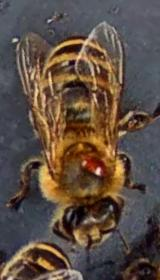varroa_mite: (72, 142, 115, 186)
